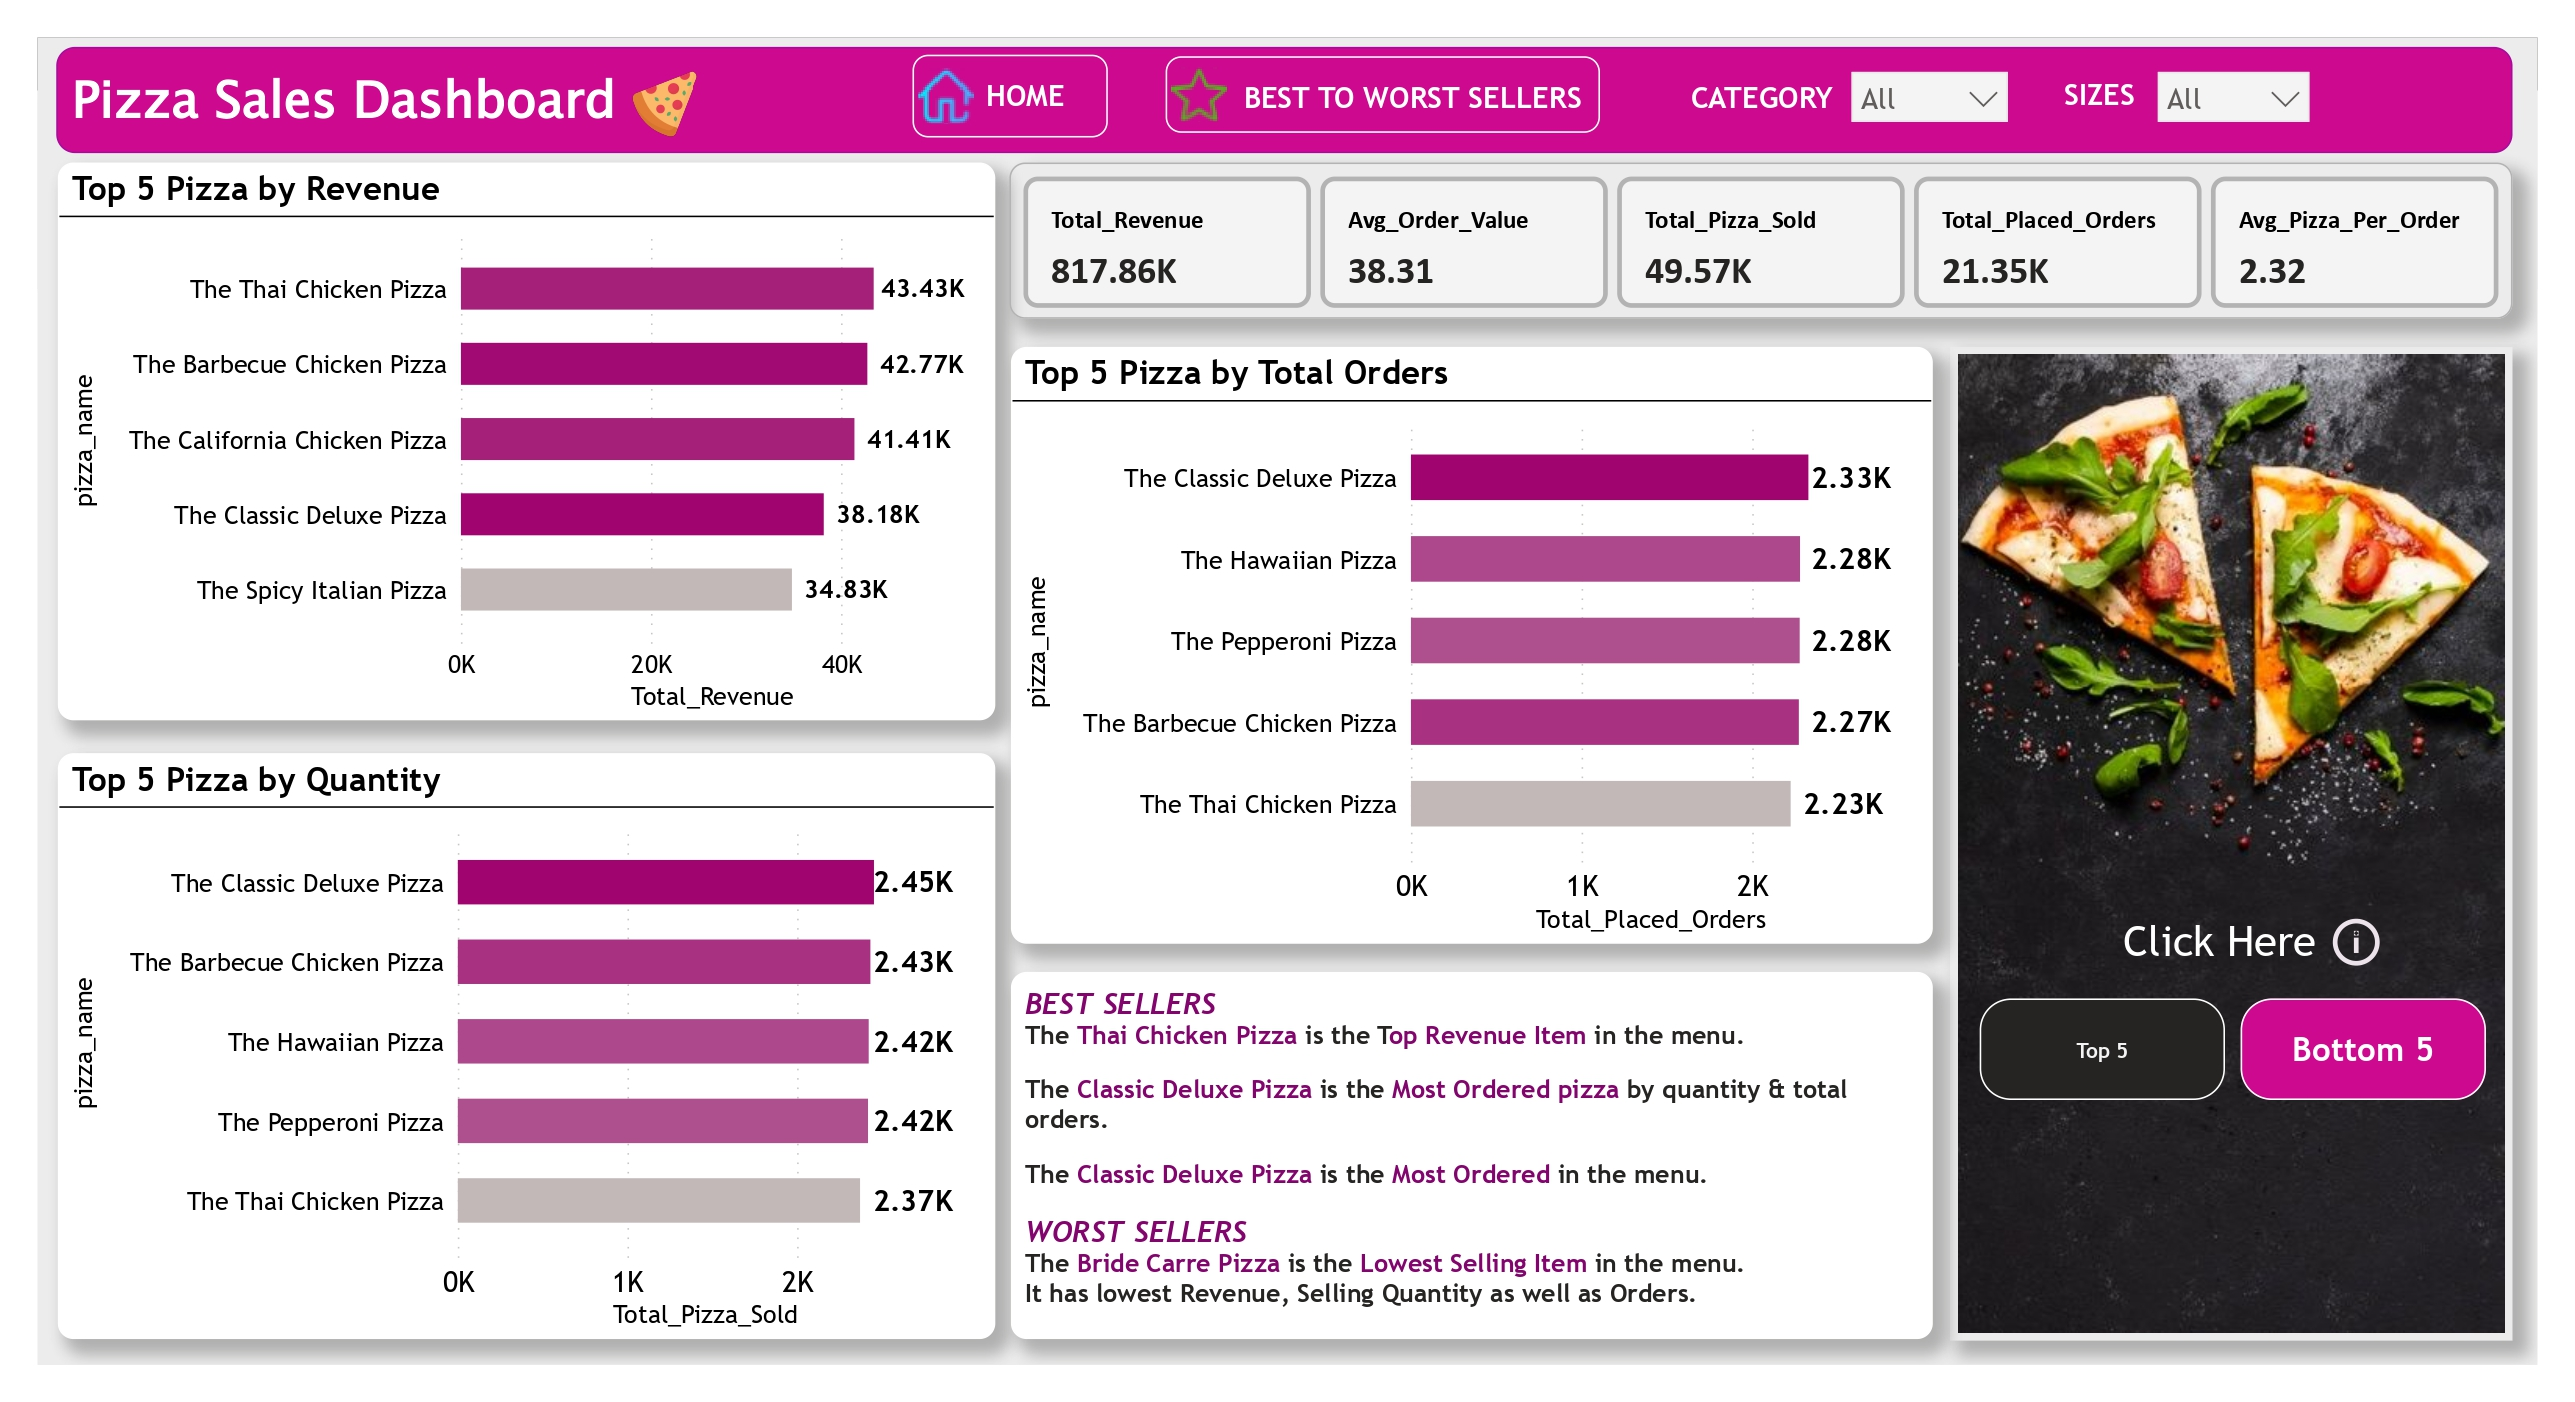

This screenshot's page, from the dashboard's own definition file:
{"tool":"powerbi","page":{"name":"BEST TO WORST SELLER","canvas":[1600,850],"ordinal":1},"visuals":[{"type":"actionButton","box":[721.7,11.7,278.1,49.2],"z":0,"group":"g3"},{"type":"slicer","fields":{"Values":["pizza_sales.pizza_category"]},"box":[1151.1,12.4,120,50],"z":0,"group":"g1"},{"type":"textbox","box":[602.1,20.7,85,35],"z":0,"group":"g2"},{"type":"image","box":[1224,198,360,636],"z":0},{"type":"textbox","box":[12,6,1572,68],"z":1000},{"type":"actionButton","box":[560,11,124.5,52.7],"z":1000,"group":"g2"},{"type":"slicer","fields":{"Values":["pizza_sales.pizza_size"]},"box":[1347.7,12.2,116.7,50],"z":1000,"group":"g1"},{"type":"textbox","box":[760.9,21.7,237.5,32.5],"z":1000,"group":"g3"},{"type":"textbox","box":[1053.3,22.1,112,32],"z":2000,"group":"g1"},{"type":"clusteredBarChart","title":"Top 5 Pizza by Revenue","fields":{"Category":["pizza_sales.pizza_name"],"Y":["pizza_sales.Total_Revenue"]},"box":[13.3,80,600,356.7],"z":2000},{"type":"image","box":[375,15,53.3,55],"z":3000},{"type":"textbox","box":[1292.2,20,68.9,34.4],"z":3000,"group":"g1"},{"type":"group","id":"g1","title":"Group 1","box":[1053.3,12.2,411.1,50.2],"z":4000},{"type":"group","id":"g2","title":"Group 2","box":[560,11,127.3,52.7],"z":5000},{"type":"clusteredBarChart","title":"Top 5 Pizza by Quantity","fields":{"Category":["pizza_sales.pizza_name"],"Y":["pizza_sales.Total_Pizza_Sold"]},"box":[12.5,457.5,600,375],"z":6000},{"type":"cardVisual","fields":{"Data":["pizza_sales.Total_Revenue","pizza_sales.Avg_Order_Value","pizza_sales.Total_Pizza_Sold","pizza_sales.Total_Placed_Orders","pizza_sales.Avg_Pizza_Per_Order"]},"box":[622,80,962,100],"z":7000},{"type":"clusteredBarChart","title":"Top 5 Pizza by Total Orders","fields":{"Category":["pizza_sales.pizza_name"],"Y":["pizza_sales.Total_Placed_Orders"]},"box":[622.5,197.5,590,382.5],"z":8000},{"type":"textbox","box":[623.3,598.3,590,235],"z":9000},{"type":"group","id":"g3","title":"Group 2","box":[721.7,11.7,278.1,49.2],"z":11000},{"type":"bookmarkNavigator","box":[1242.5,615,325,65],"z":16500},{"type":"textbox","box":[1330,558,154,46],"z":17000},{"type":"actionButton","box":[1457.1,558.6,52.9,40],"z":17500}]}

Visuals, with their boxes on the page's 1600x850 design canvas (x1, y1, x2, y2). These are canvas units, not pixel positions in the 2575x1402 screenshot, which may show the page scaled, cropped or inside an application window:
actionButton: Rect(722, 12, 1000, 61)
slicer - pizza_sales.pizza_category: Rect(1151, 12, 1271, 62)
textbox: Rect(602, 21, 687, 56)
image: Rect(1224, 198, 1584, 834)
textbox: Rect(12, 6, 1584, 74)
actionButton: Rect(560, 11, 684, 64)
slicer - pizza_sales.pizza_size: Rect(1348, 12, 1464, 62)
textbox: Rect(761, 22, 998, 54)
textbox: Rect(1053, 22, 1165, 54)
"Top 5 Pizza by Revenue" clusteredBarChart: Rect(13, 80, 613, 437)
image: Rect(375, 15, 428, 70)
textbox: Rect(1292, 20, 1361, 54)
"Group 1" group: Rect(1053, 12, 1464, 62)
"Group 2" group: Rect(560, 11, 687, 64)
"Top 5 Pizza by Quantity" clusteredBarChart: Rect(12, 458, 612, 832)
cardVisual - pizza_sales.Total_Revenue x pizza_sales.Avg_Order_Value: Rect(622, 80, 1584, 180)
"Top 5 Pizza by Total Orders" clusteredBarChart: Rect(622, 198, 1212, 580)
textbox: Rect(623, 598, 1213, 833)
"Group 2" group: Rect(722, 12, 1000, 61)
bookmarkNavigator: Rect(1242, 615, 1568, 680)
textbox: Rect(1330, 558, 1484, 604)
actionButton: Rect(1457, 559, 1510, 599)
